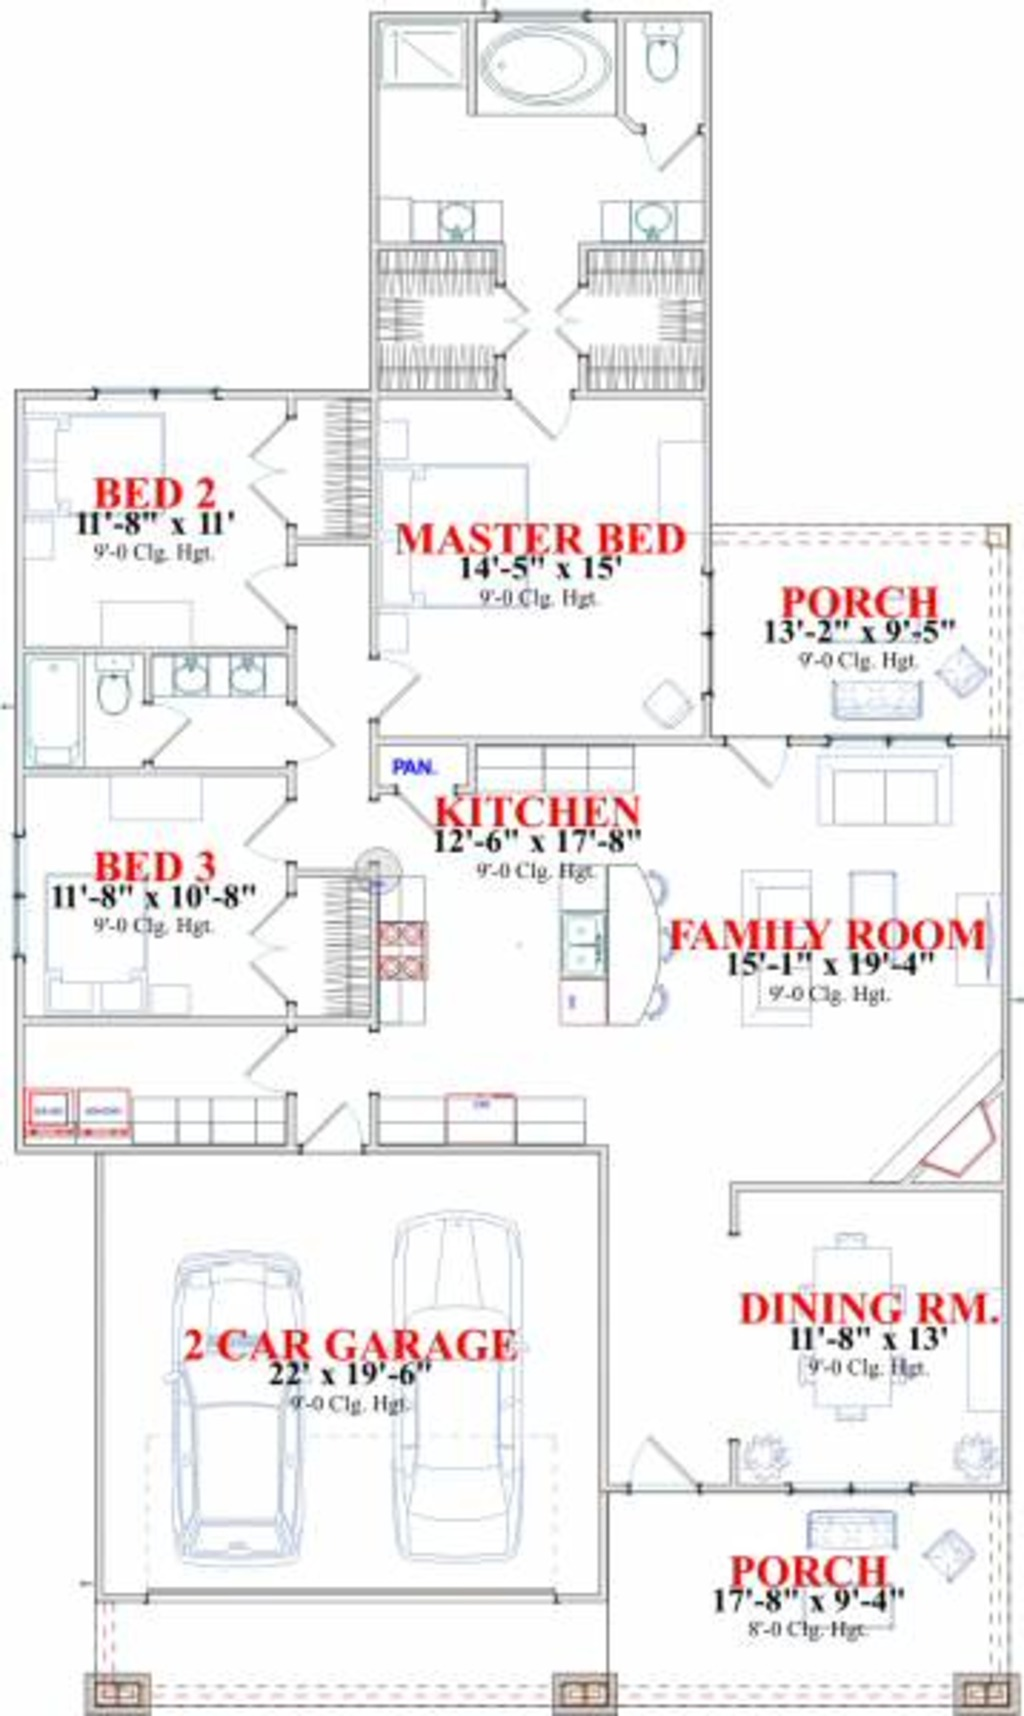bed: (374, 457, 561, 625), (29, 847, 176, 1023), (21, 391, 200, 528)
dining_table: (779, 1222, 922, 1433)
door: (243, 403, 311, 528), (240, 888, 311, 999), (234, 557, 311, 643), (619, 1428, 713, 1494), (247, 786, 305, 884), (282, 702, 350, 778), (361, 643, 419, 720), (511, 381, 584, 441)
kitchen_bar: (538, 838, 688, 1070)
large_sink: (631, 10, 705, 99), (95, 643, 145, 723)
large_sofa: (820, 743, 974, 845), (734, 873, 819, 1047)
small_sink: (382, 182, 516, 247), (171, 652, 286, 707), (595, 189, 699, 241)
tub: (26, 647, 98, 770)
